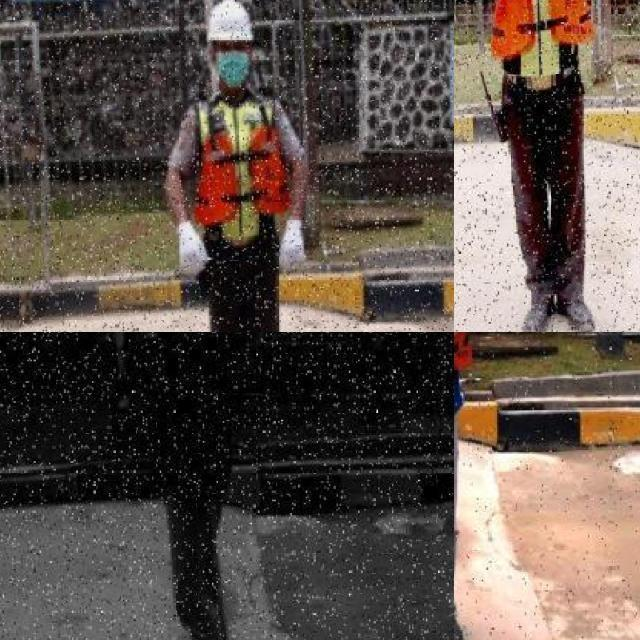apron: (174, 218, 213, 278), (276, 215, 310, 274)
